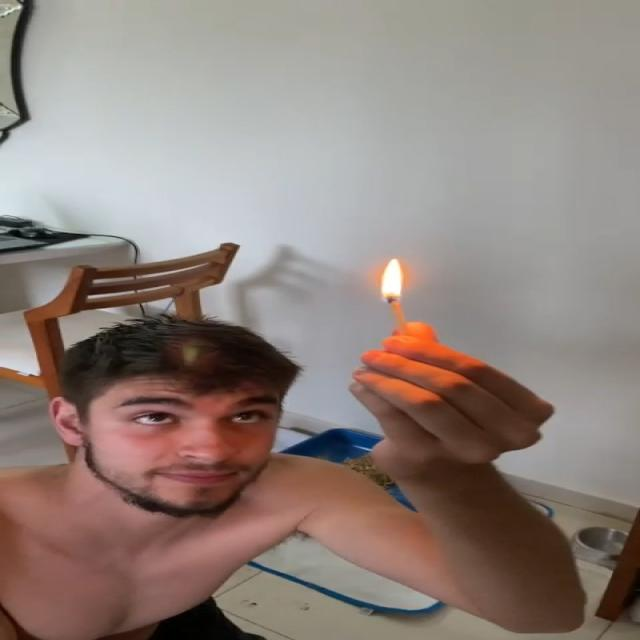fogo-ypXI: (380, 257, 404, 306)
